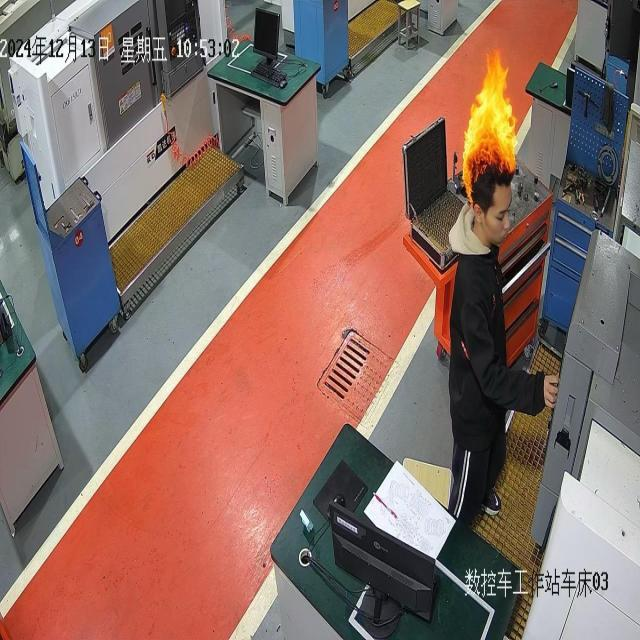fire: (454, 29, 530, 218)
